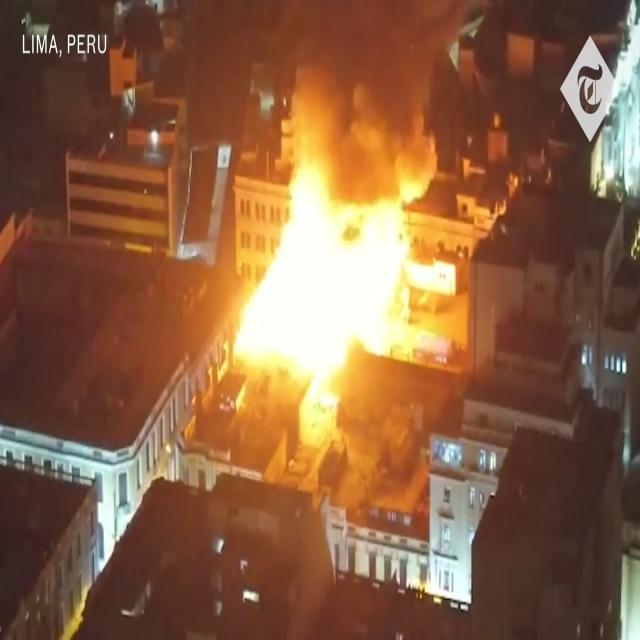Fire: (215, 120, 463, 402)
